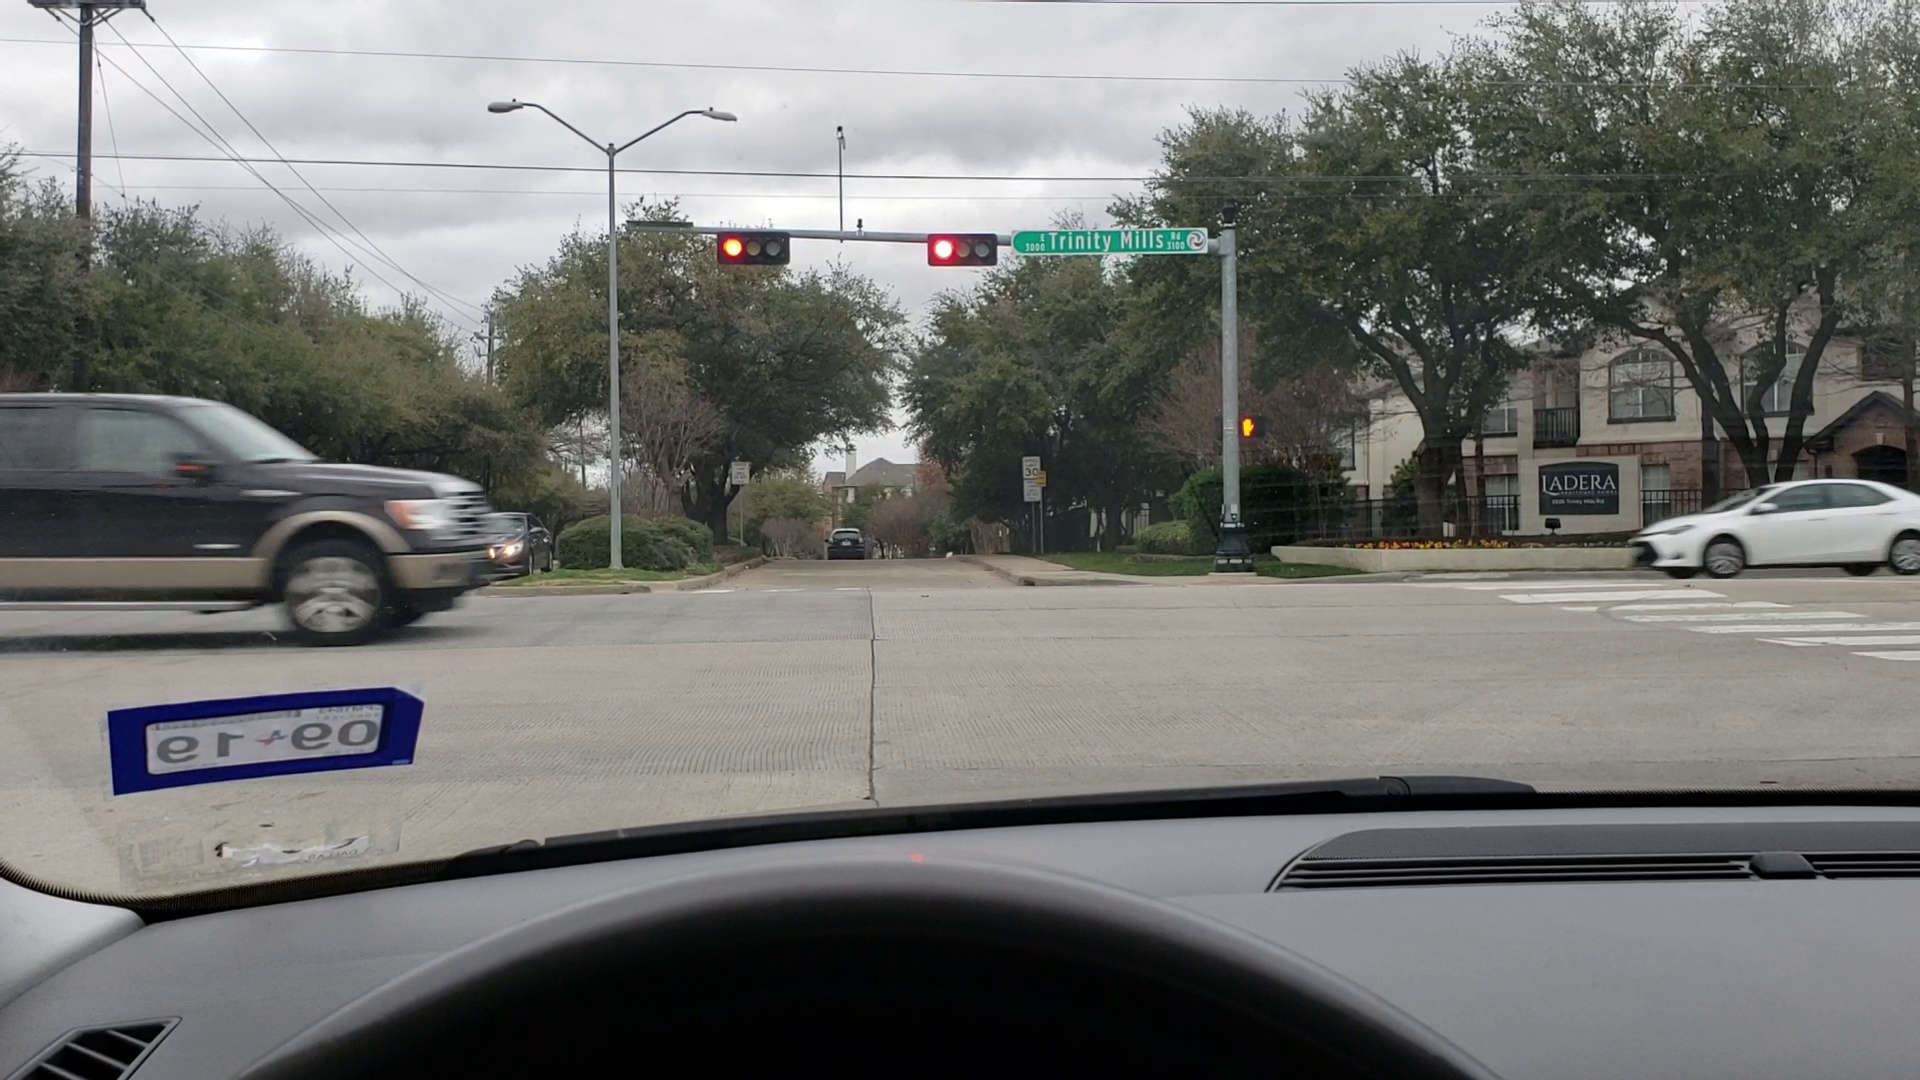car: (1, 389, 505, 650), (1619, 467, 1920, 579), (483, 496, 566, 585), (827, 524, 866, 556)
traffic light: (931, 233, 1005, 266), (717, 235, 789, 265)
